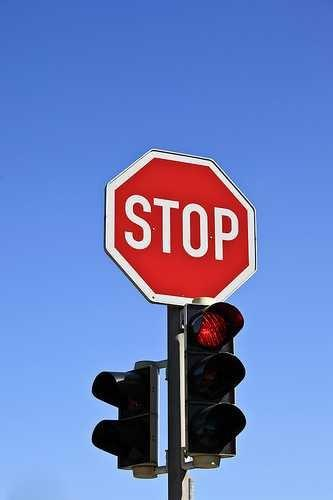red: (175, 301, 247, 459), (187, 298, 239, 354)
